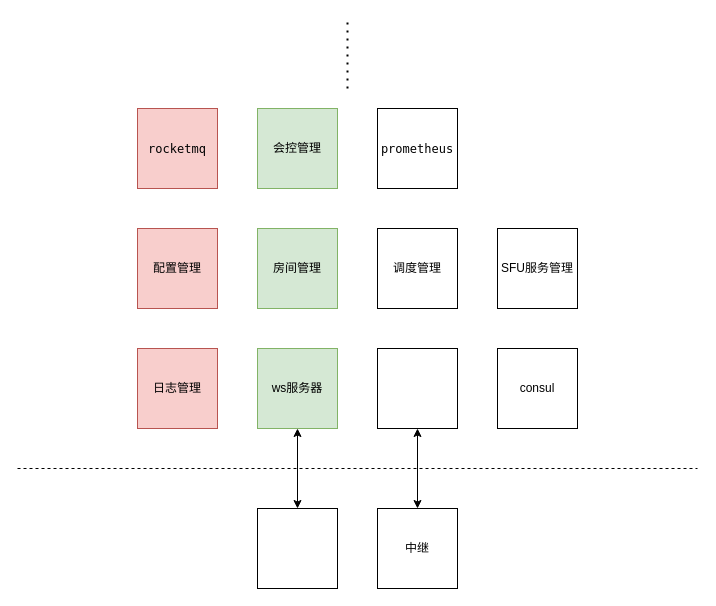
Some shapes in this 716 by 606 pixel diagram are drawn without their labels. The centre of each missing label's shape, as x and y in pixels:
ws客户端: pixel 417 388
网关: pixel 297 548
